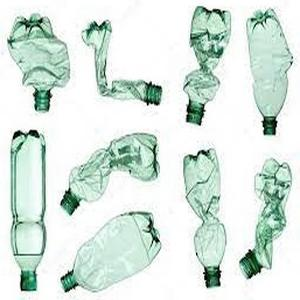Plastic: (57, 124, 160, 215), (59, 212, 162, 296), (79, 15, 163, 109), (236, 151, 293, 281), (0, 11, 70, 116), (179, 142, 227, 292), (244, 7, 296, 139), (8, 128, 47, 295), (180, 5, 232, 129)
